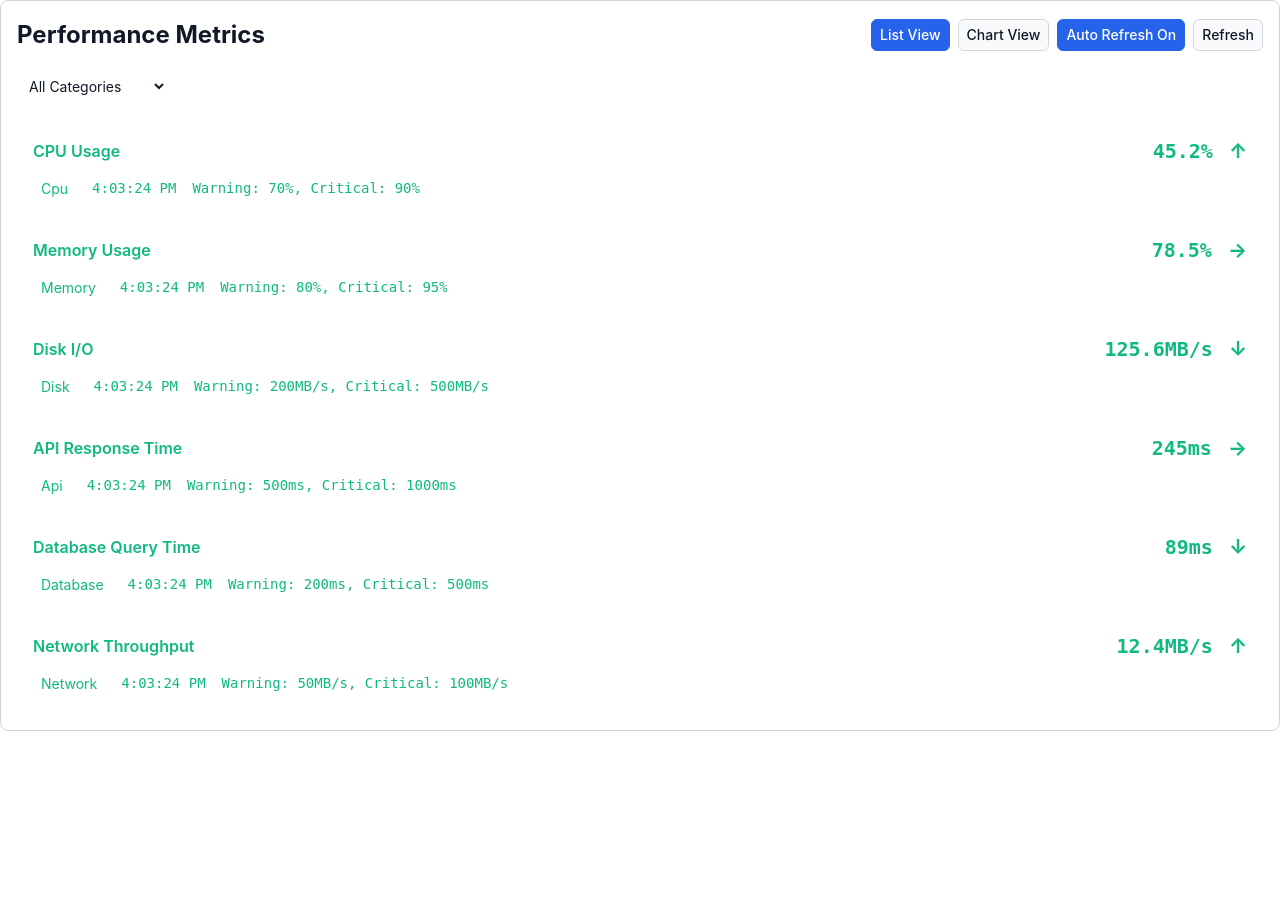
Test case: PerformanceMetrics Component › shows metric details when metric item is clicked
The width and height of the screenshot is (1280, 900).
Expected: the heading "Performance Metrics" is shown, [17,17,265,53]
Note: Click on a metric item
Click the text "CPU Usage".
click(77, 151)  # box [33,136,1247,166]
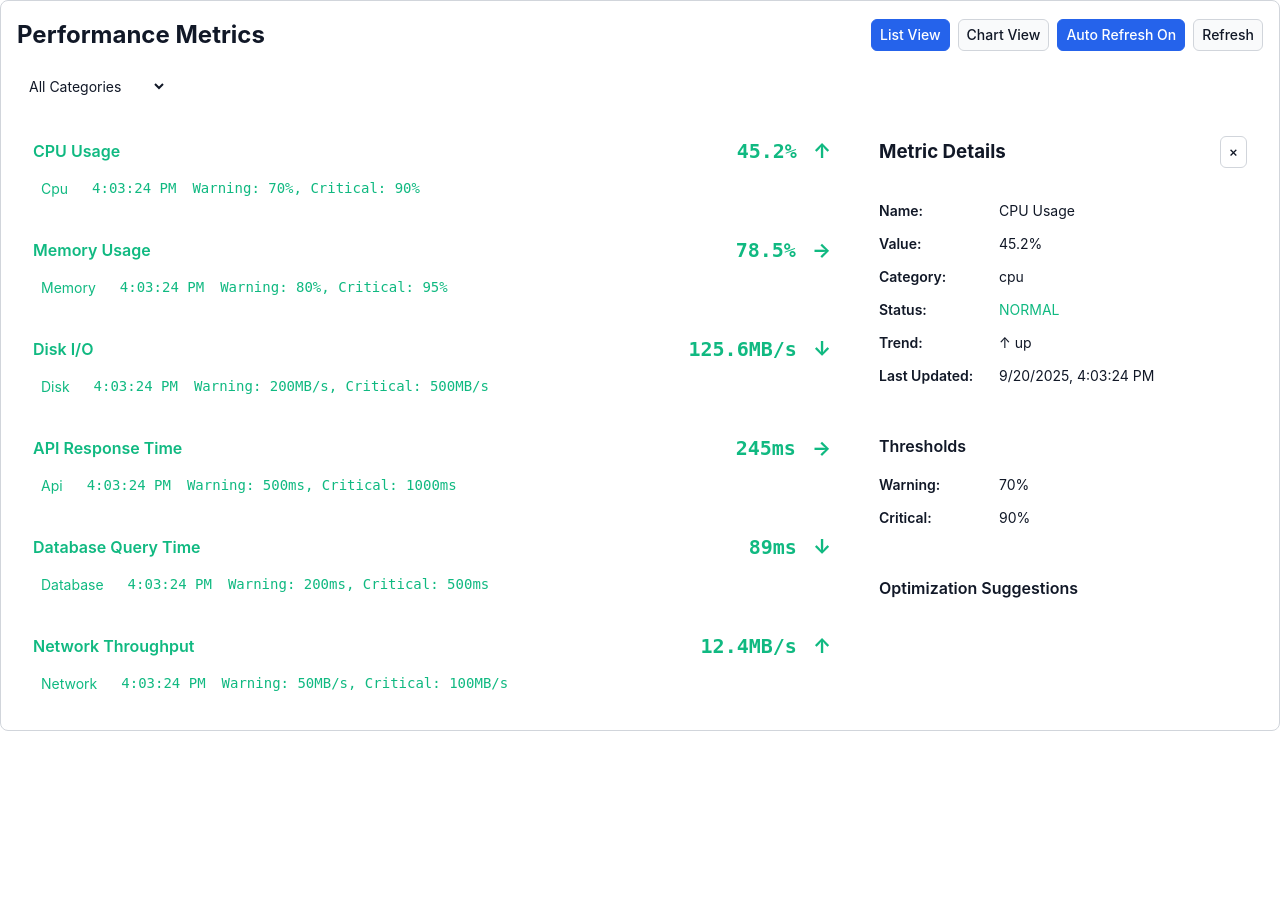
Expected: the heading "Metric Details" is shown, [879,138,1006,166]
Expected: the text "Name:" is shown, [879,202,923,219]
Expected: the text "Value:" is shown, [879,235,921,252]
